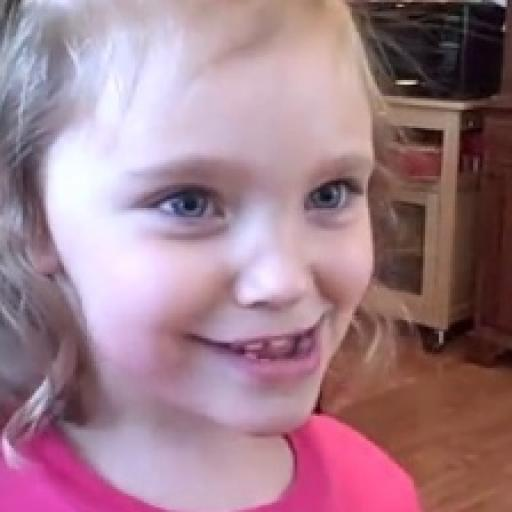Autism: (24, 11, 437, 466)
